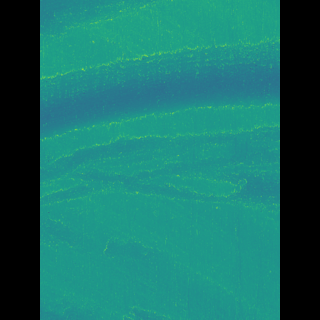Loch: (70, 32, 251, 139), (70, 121, 252, 216), (69, 0, 161, 35)
